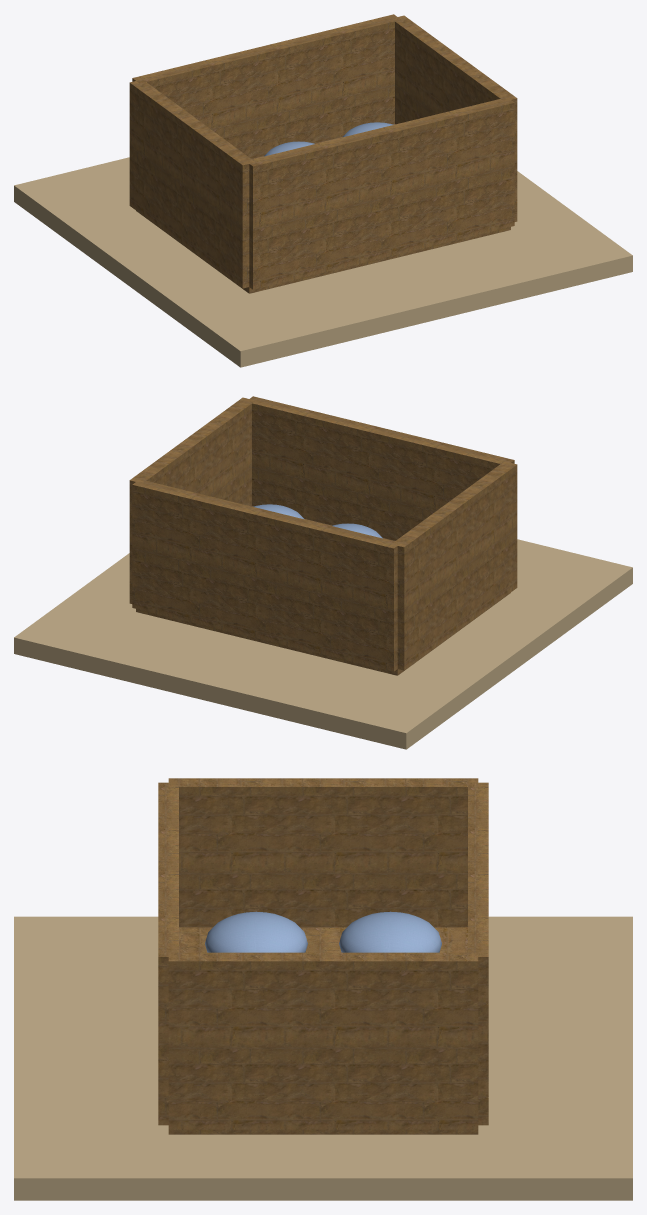
File: celeiro.glb
3 views of the same model, one above another, from view 1: azimuth 30°, elevation 25°; view 2: azimuth 150°, elevation 25°; view 3: azimuth 270°, elevation 25° (orthographic). The views are drawn at different scales.
Parts seen in each view (by area): view 1: Base ilustrativa, Parede.003, Parede.002, Parede, Parede.001, Base; view 2: Base ilustrativa, Parede.002, Parede.003, Parede, Parede.001, Base; view 3: Base ilustrativa, Parede.001, Parede, Parede.002, Parede.003, Base, Depósito de grãos, Depósito de grãos.003.
Boxes of the visible parts, x1,y1,x2,y2 form: Base ilustrativa: (14,157,632,367); Parede.003: (248,99,514,289); Parede.002: (132,14,400,158); Parede: (129,81,254,288); Parede.001: (391,15,517,221); Base: (136,124,510,293); Base ilustrativa: (14,539,632,749); Parede.002: (132,481,399,671); Parede.003: (247,396,514,540); Parede: (392,463,517,670); Parede.001: (129,397,255,603); Base: (136,506,510,675); Base ilustrativa: (14,916,632,1200); Parede.001: (168,952,478,1129); Parede: (168,778,478,927); Parede.002: (468,782,488,1125); Parede.003: (158,782,178,1125); Base: (168,927,478,1134); Depósito de grãos: (339,911,441,952); Depósito de grãos.003: (205,911,307,952).
Bounding box in the file's own units: 6 × 2.14 × 6.
Materials: 3 (2 with a texture image).
